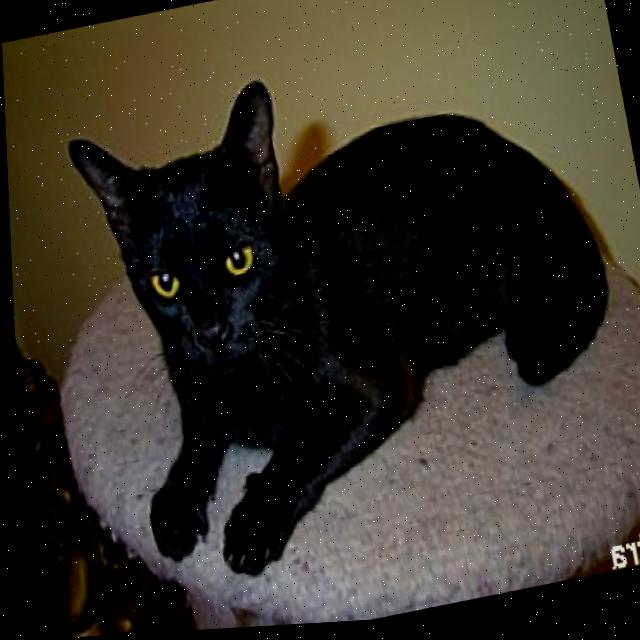Bombay: (53, 15, 640, 603)
